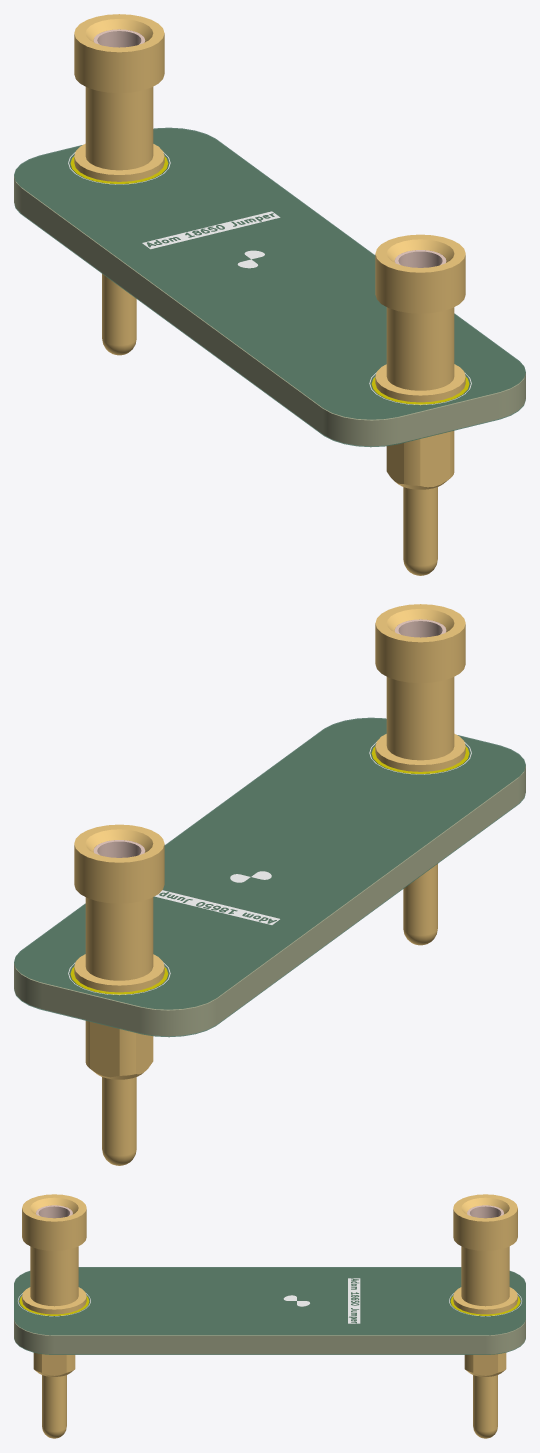
The model's file is Molecule_18650_Jumper.glb.
The picture shows the model from 3 angles, top to bottom: view 1: azimuth 30°, elevation 25°; view 2: azimuth 150°, elevation 25°; view 3: azimuth 270°, elevation 25°; orthographic projection. The views are drawn at different scales.
Visible parts, largest first — view 1: =>[0:1:1:6], =>[0:1:1:5], =>[0:1:1:3] (×3), =>[0:1:1:4], MpinContact_Large v2:4 (×2); view 2: =>[0:1:1:6], =>[0:1:1:5], =>[0:1:1:3] (×3), MpinContact_Large v2:4 (×2), =>[0:1:1:4]; view 3: =>[0:1:1:6], =>[0:1:1:5], =>[0:1:1:3] (×3), =>[0:1:1:4], MpinContact_Large v2:4 (×2).
Part boxes in pixels (x1,y1,x2,y2): =>[0:1:1:6]: [14, 129, 525, 446]; =>[0:1:1:5]: [14, 127, 525, 447]; =>[0:1:1:3] (×3): [70, 14, 469, 575]; =>[0:1:1:4]: [68, 152, 471, 405]; MpinContact_Large v2:4 (×2): [93, 29, 446, 267]; =>[0:1:1:6]: [14, 719, 525, 1036]; =>[0:1:1:5]: [14, 717, 525, 1037]; =>[0:1:1:3] (×3): [70, 604, 469, 1165]; MpinContact_Large v2:4 (×2): [93, 619, 446, 857]; =>[0:1:1:4]: [68, 742, 471, 995]; =>[0:1:1:6]: [14, 1268, 525, 1354]; =>[0:1:1:5]: [14, 1267, 525, 1354]; =>[0:1:1:3] (×3): [19, 1194, 520, 1438]; =>[0:1:1:4]: [18, 1278, 521, 1323]; MpinContact_Large v2:4 (×2): [36, 1205, 503, 1218].
Size of the model in its own units: 0.012 by 0.0188 by 0.038.
